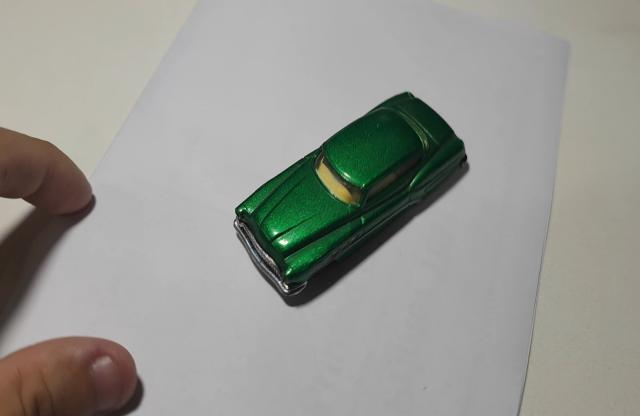06_MASERATI: (232, 92, 470, 309)
